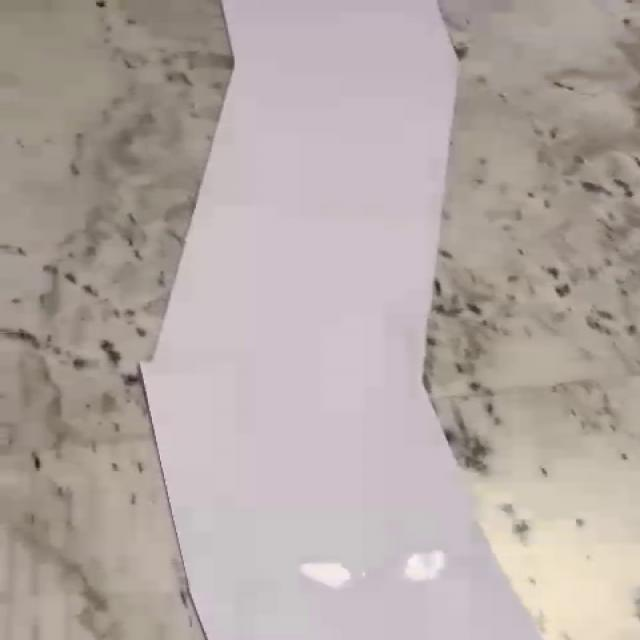road: (143, 0, 541, 640)
